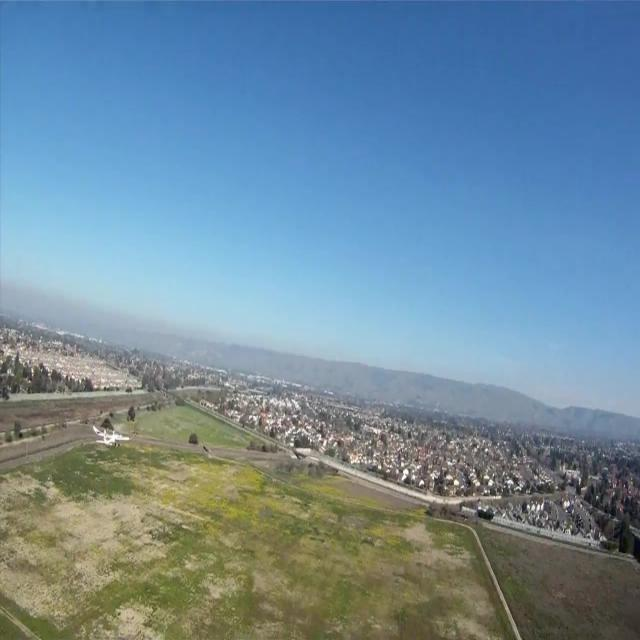iha: (29, 423, 66, 447)
